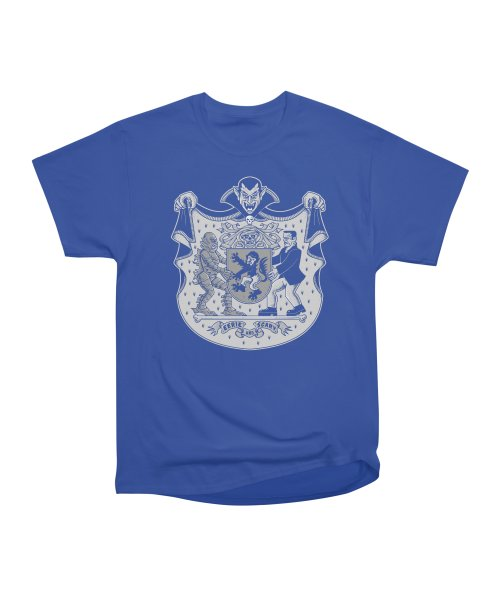design: (167, 172, 332, 355)
